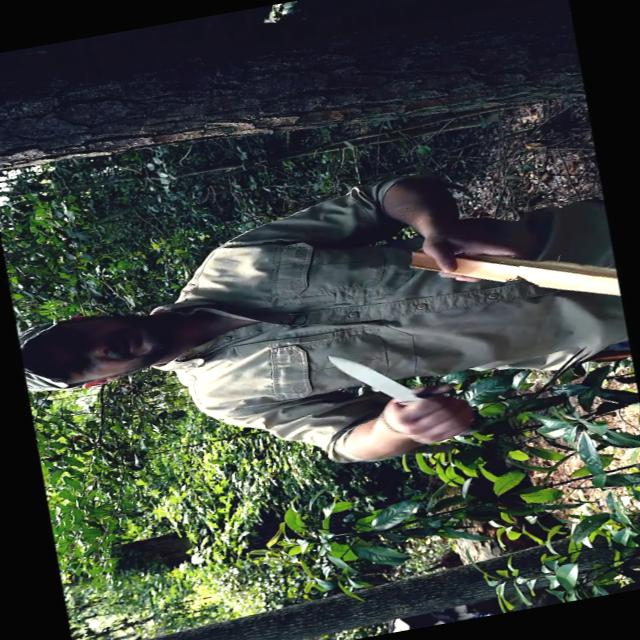knife: (316, 331, 464, 443)
